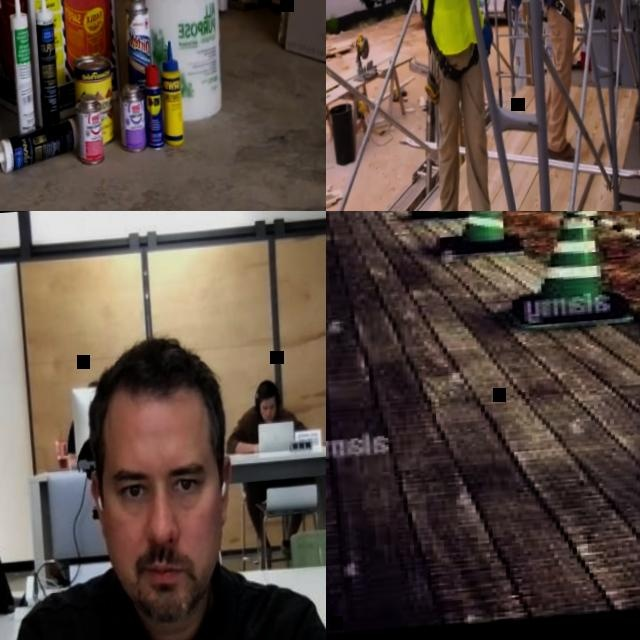NO-Hardhat: (94, 331, 224, 433), (255, 380, 279, 399)
NO-Mask: (120, 545, 211, 623), (261, 408, 275, 420)
NO-Safety Vest: (41, 589, 291, 640), (245, 407, 286, 444)
Person: (0, 320, 326, 640), (395, 0, 516, 211), (222, 377, 317, 562), (523, 0, 610, 165), (60, 379, 103, 451)
Safety Cone: (506, 211, 635, 334), (429, 211, 532, 264)
Safety Vest: (408, 0, 486, 57)
vehicle: (409, 0, 545, 26)
